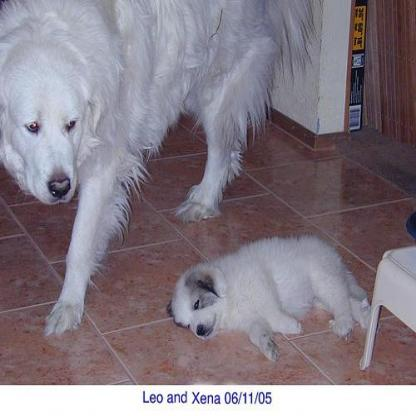Great_Pyrenees: (0, 0, 315, 336), (166, 233, 372, 365)
